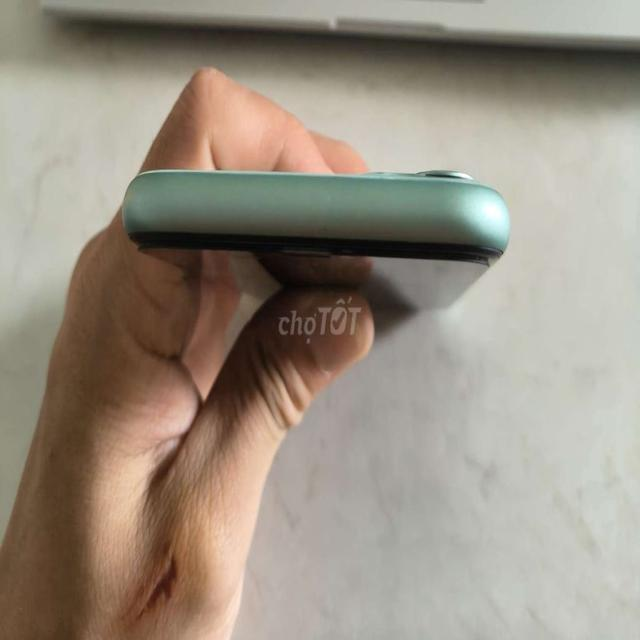gen_11: (105, 148, 516, 296)
